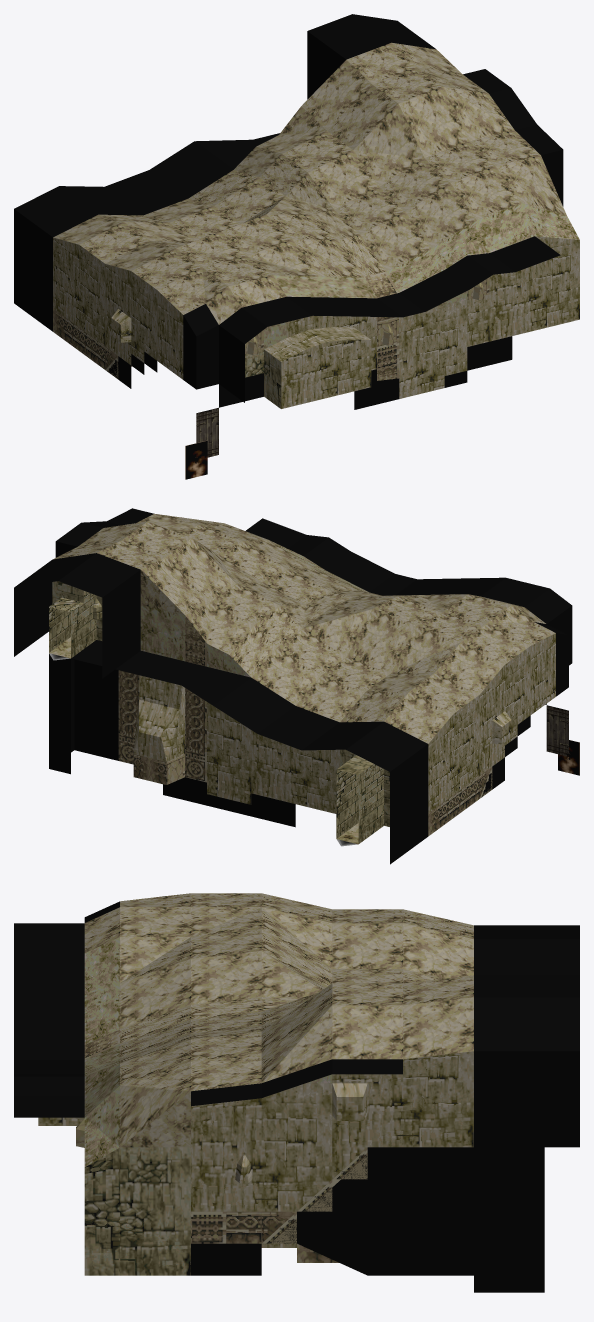
Rendered from MAP015.obj.
3 renders of one model, top to bottom at view 1: azimuth 30°, elevation 25°; view 2: azimuth 150°, elevation 25°; view 3: azimuth 270°, elevation 25°, orthographic. The views are drawn at different scales.
Visible parts, largest first — view 1: mesh_43, mesh_71, mesh_100, mesh_89, mesh_44, mesh_88, mesh_35, mesh_108, mesh_67, mesh_99, mesh_101, mesh_39 (+8 smaller); view 2: mesh_43, mesh_71, mesh_67, mesh_89, mesh_100, mesh_81, mesh_70, mesh_93, mesh_84, mesh_83, mesh_25, mesh_45 (+16 smaller); view 3: mesh_43, mesh_67, mesh_32, mesh_70, mesh_100, mesh_86, mesh_71, mesh_87, mesh_44, mesh_99, mesh_33, mesh_30 (+5 smaller).
Part boxes in pixels (left/top/right/bottom): mesh_43: left=53, top=42, right=566, bottom=324; mesh_71: left=14, top=14, right=391, bottom=331; mesh_100: left=219, top=236, right=560, bottom=343; mesh_89: left=53, top=237, right=183, bottom=379; mesh_44: left=274, top=203, right=579, bottom=298; mesh_88: left=422, top=236, right=579, bottom=357; mesh_35: left=286, top=273, right=511, bottom=398; mesh_108: left=264, top=327, right=371, bottom=408; mesh_67: left=109, top=336, right=512, bottom=409; mesh_99: left=463, top=69, right=563, bottom=206; mesh_101: left=183, top=304, right=218, bottom=389; mesh_39: left=53, top=261, right=183, bottom=364; mesh_43: left=53, top=513, right=555, bottom=743; mesh_71: left=58, top=553, right=428, bottom=864; mesh_67: left=49, top=654, right=546, bottom=827; mesh_89: left=428, top=646, right=555, bottom=803; mesh_100: left=245, top=518, right=571, bottom=623; mesh_81: left=139, top=675, right=339, bottom=793; mesh_70: left=14, top=553, right=95, bottom=656; mesh_93: left=49, top=581, right=102, bottom=658; mesh_84: left=336, top=764, right=383, bottom=843; mesh_83: left=118, top=670, right=206, bottom=759; mesh_25: left=180, top=686, right=336, bottom=813; mesh_45: left=133, top=699, right=184, bottom=761; mesh_43: left=84, top=893, right=473, bottom=1146; mesh_67: left=191, top=1147, right=544, bottom=1292; mesh_32: left=191, top=1051, right=473, bottom=1211; mesh_70: left=474, top=997, right=579, bottom=1147; mesh_100: left=14, top=923, right=84, bottom=1117; mesh_86: left=84, top=1147, right=190, bottom=1275; mesh_71: left=474, top=925, right=579, bottom=997; mesh_87: left=297, top=1083, right=473, bottom=1147; mesh_44: left=84, top=937, right=119, bottom=1166; mesh_99: left=191, top=1059, right=402, bottom=1106; mesh_33: left=191, top=1211, right=296, bottom=1243; mesh_30: left=120, top=1147, right=190, bottom=1275.
Bounding box in the file's own units: 237 × 134 × 205.
21 materials, 21 textured.
